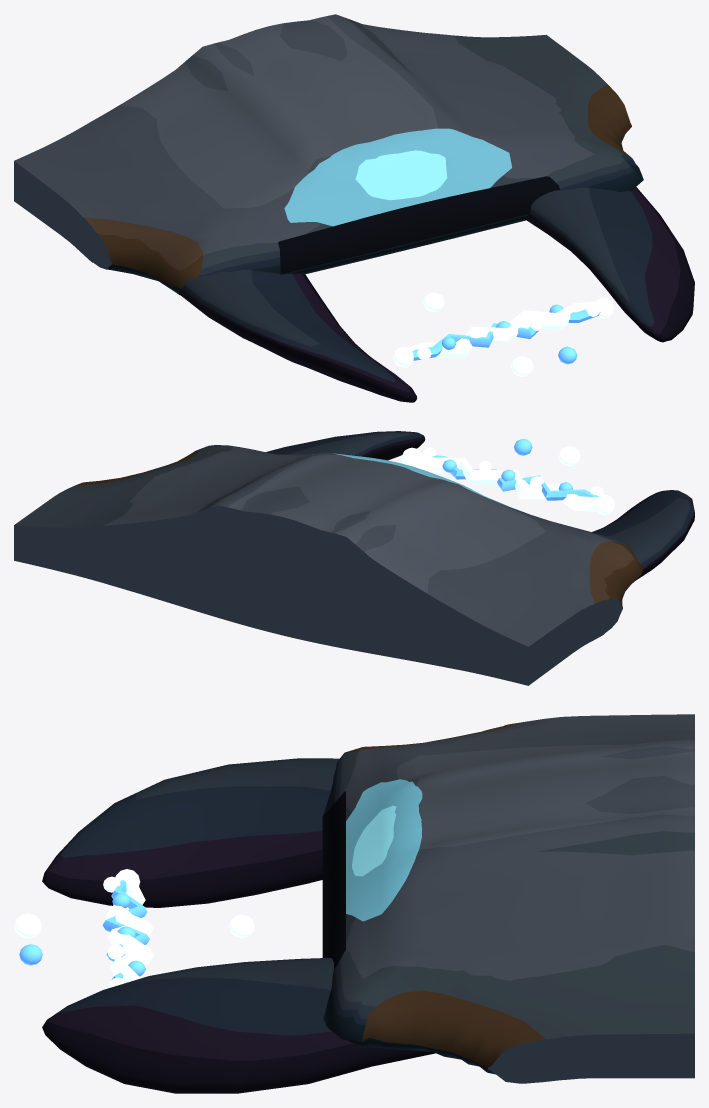
Rendered from coral_manta_head_273.glb.
3 renders of one model, top to bottom at view 1: azimuth 30°, elevation 25°; view 2: azimuth 150°, elevation 25°; view 3: azimuth 270°, elevation 25°, orthographic. The views are drawn at different scales.
Visible parts, largest first — view 1: coral_manta_head_273; view 2: coral_manta_head_273; view 3: coral_manta_head_273.
Boxes of the visible parts, left/top/right/bottom form: coral_manta_head_273: left=14, top=14, right=694, bottom=402; coral_manta_head_273: left=14, top=431, right=694, bottom=685; coral_manta_head_273: left=14, top=714, right=694, bottom=1093.
Bounding box in the file's own units: 24 × 7.09 × 21.95.
